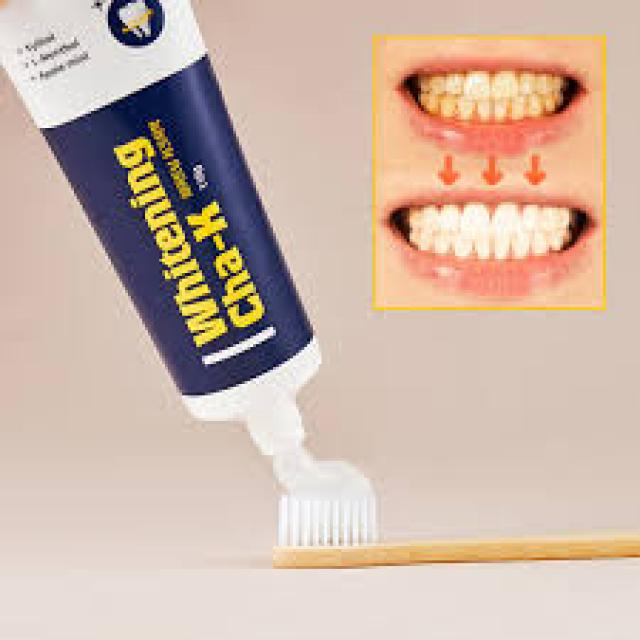toothpaste: (0, 2, 362, 443)
